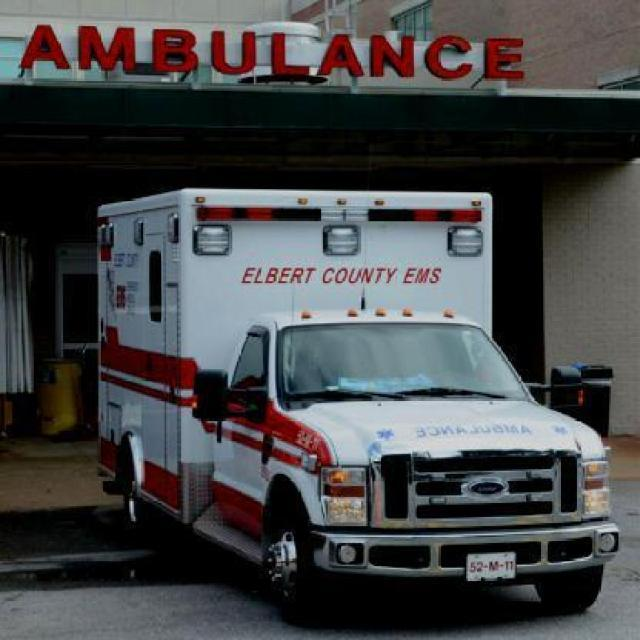emergency: (92, 185, 620, 617)
